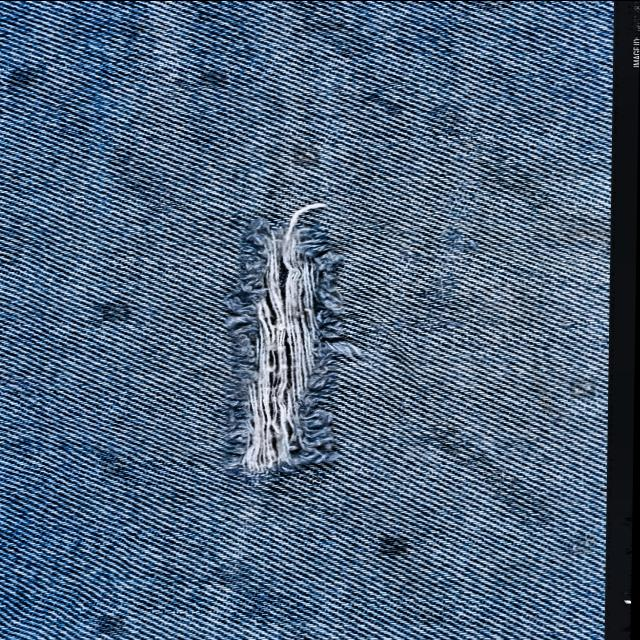Hole: (195, 182, 381, 503)
